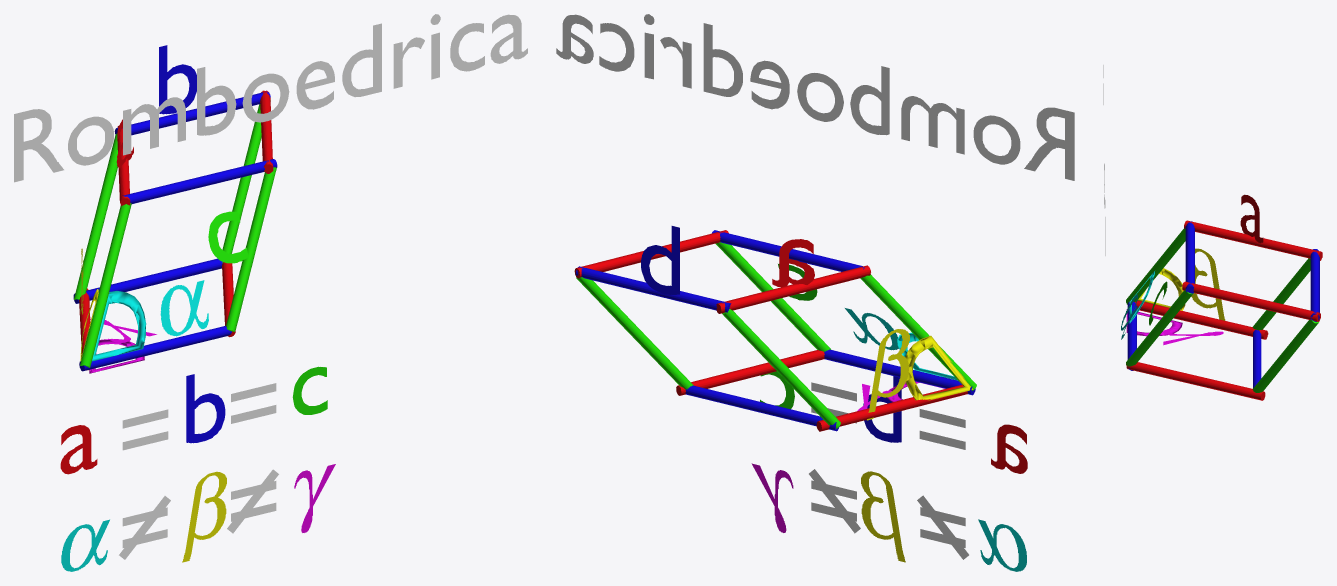
The model's file is romboedrica.obj.glb.
The picture shows the model from 3 angles, left to right: view 1: azimuth 30°, elevation 25°; view 2: azimuth 150°, elevation 25°; view 3: azimuth 270°, elevation 25°; orthographic projection. The views are drawn at different scales.
Visible parts, largest first — view 1: Text.131_Text.001, Cylinder.059_Cylinder.001, Cylinder.054_Cylinder.001, Cylinder.057_Cylinder.001, Cylinder.050_Cylinder.001, Cylinder.049_Cylinder.001, Cylinder.055_Cylinder.001, Text.051_Text.001, Text.055_Text.001, Cylinder.051_Cylinder.001, Sphere.052_Sphere.001, Text.064_Text.001 (+12 smaller); view 2: Text.131_Text.001, Cylinder.057_Cylinder.001, Cylinder.060_Cylinder.001, Cylinder.051_Cylinder.001, Cylinder.055_Cylinder.001, Cylinder.054_Cylinder.001, Cylinder.056_Cylinder.001, Cylinder.050_Cylinder.001, Cylinder.052_Cylinder.001, Cylinder.049_Cylinder.001, Cylinder.058_Cylinder.001, Text.064_Text.001 (+14 smaller); view 3: Cylinder.052_Cylinder.001, Cylinder.053_Cylinder.001, Cylinder.060_Cylinder.001, Cylinder.058_Cylinder.001, Cylinder.054_Cylinder.001, Cylinder.051_Cylinder.001, Cylinder.059_Cylinder.001, Cylinder.057_Cylinder.001, Cylinder.050_Cylinder.001, Cylinder.056_Cylinder.001, Text.067_Text.001, Text.063_Text.001 (+5 smaller).
Boxes of the visible parts, box(x1,y1,x2,y2) form: Text.131_Text.001: box(14, 14, 527, 182); Cylinder.059_Cylinder.001: box(80, 203, 131, 367); Cylinder.054_Cylinder.001: box(226, 167, 276, 331); Cylinder.057_Cylinder.001: box(74, 133, 117, 299); Cylinder.050_Cylinder.001: box(122, 159, 277, 203); Cylinder.049_Cylinder.001: box(79, 326, 231, 371); Cylinder.055_Cylinder.001: box(73, 258, 222, 303); Text.051_Text.001: box(186, 374, 225, 443); Text.055_Text.001: box(182, 471, 226, 562); Cylinder.051_Cylinder.001: box(222, 104, 261, 263); Sphere.052_Sphere.001: box(92, 291, 146, 361); Text.064_Text.001: box(159, 45, 196, 114); Text.131_Text.001: box(556, 14, 1074, 180); Cylinder.057_Cylinder.001: box(722, 309, 840, 428); Cylinder.060_Cylinder.001: box(716, 265, 870, 313); Cylinder.051_Cylinder.001: box(576, 277, 693, 389); Cylinder.055_Cylinder.001: box(685, 385, 839, 431); Cylinder.054_Cylinder.001: box(715, 242, 830, 351); Cylinder.056_Cylinder.001: box(575, 266, 731, 312); Cylinder.050_Cylinder.001: box(712, 230, 864, 271); Cylinder.052_Cylinder.001: box(676, 350, 824, 395); Cylinder.049_Cylinder.001: box(824, 349, 975, 395); Cylinder.058_Cylinder.001: box(816, 385, 967, 431); Text.064_Text.001: box(641, 226, 679, 294); Cylinder.052_Cylinder.001: box(1126, 362, 1265, 400); Cylinder.053_Cylinder.001: box(1182, 281, 1320, 321); Cylinder.060_Cylinder.001: box(1184, 220, 1322, 260); Cylinder.058_Cylinder.001: box(1135, 300, 1268, 339); Cylinder.054_Cylinder.001: box(1126, 289, 1193, 366); Cylinder.051_Cylinder.001: box(1252, 320, 1318, 392); Cylinder.059_Cylinder.001: box(1126, 228, 1185, 304); Cylinder.057_Cylinder.001: box(1252, 258, 1310, 330); Cylinder.050_Cylinder.001: box(1185, 221, 1194, 293); Cylinder.056_Cylinder.001: box(1310, 249, 1319, 321); Text.067_Text.001: box(1191, 248, 1225, 320); Text.063_Text.001: box(1240, 194, 1263, 243).
Size of the model in its own units: 1.83 by 1.66 by 0.766.
